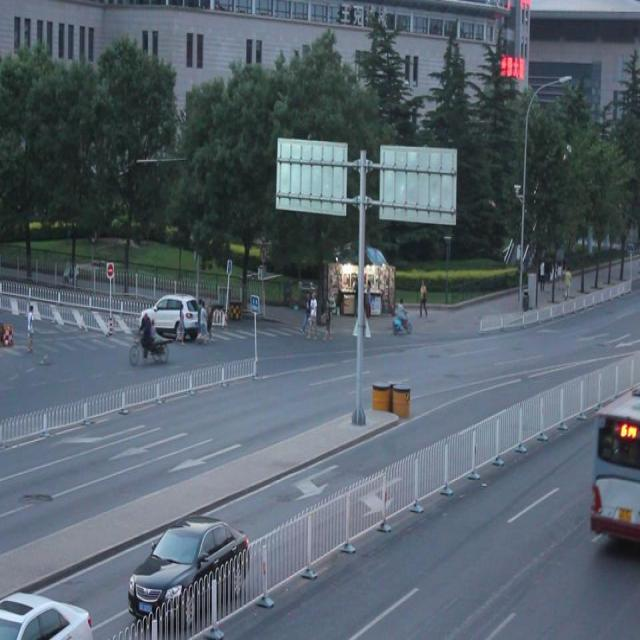car: (128, 516, 250, 628), (1, 589, 92, 640), (140, 294, 200, 338)
van: (588, 390, 640, 543)
